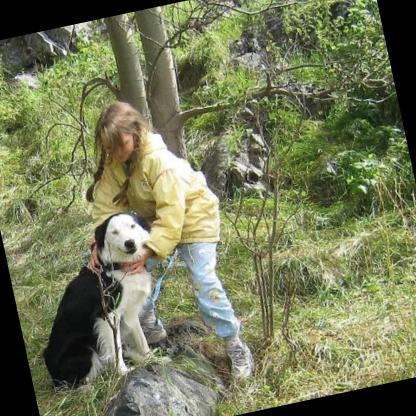Newfoundland: (14, 206, 170, 390)
